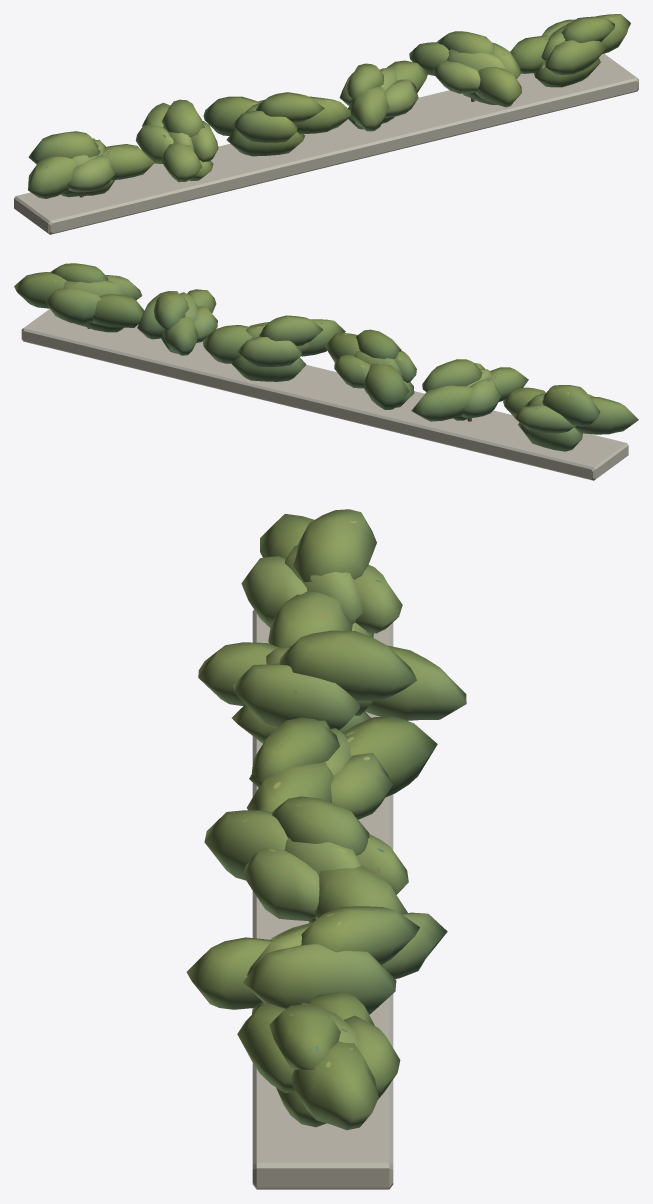
Rendered from ART_ClippedHedge.glb.
3 views of the same model, one above another, from view 1: azimuth 30°, elevation 25°; view 2: azimuth 150°, elevation 25°; view 3: azimuth 270°, elevation 25° (orthographic). The views are drawn at different scales.
Parts seen in each view (by area): view 1: ART_ClippedHedge; view 2: ART_ClippedHedge; view 3: ART_ClippedHedge.
Boxes of the visible parts, x1,y1,x2,y2 form: ART_ClippedHedge: (14, 14, 638, 234); ART_ClippedHedge: (14, 263, 638, 480); ART_ClippedHedge: (186, 509, 466, 1189).
Bounding box in the file's own units: 8.44 × 0.9976 × 1.69.
